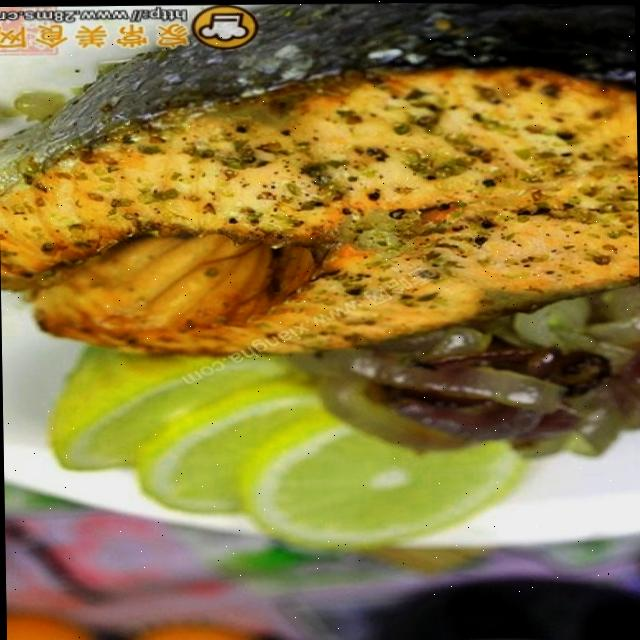熟制海鲜: (0, 14, 640, 559)
